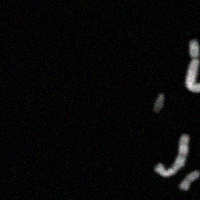chromosome: (155, 133, 190, 177), (185, 39, 200, 92), (180, 170, 200, 189), (151, 90, 166, 115)
